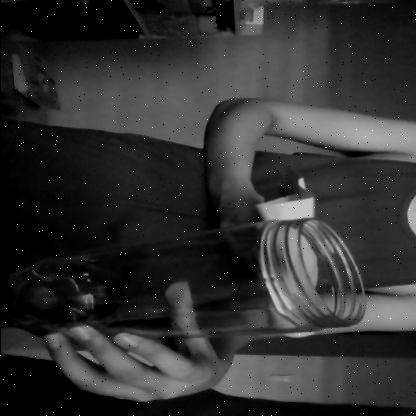Plastic Bottle: (0, 220, 371, 346)
